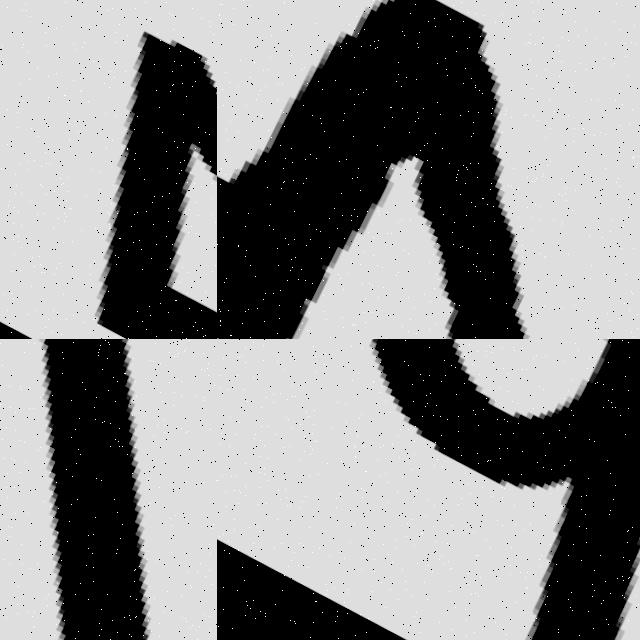5: (0, 0, 217, 339)
D: (217, 339, 640, 640)
V: (217, 0, 640, 339), (0, 339, 217, 640)
